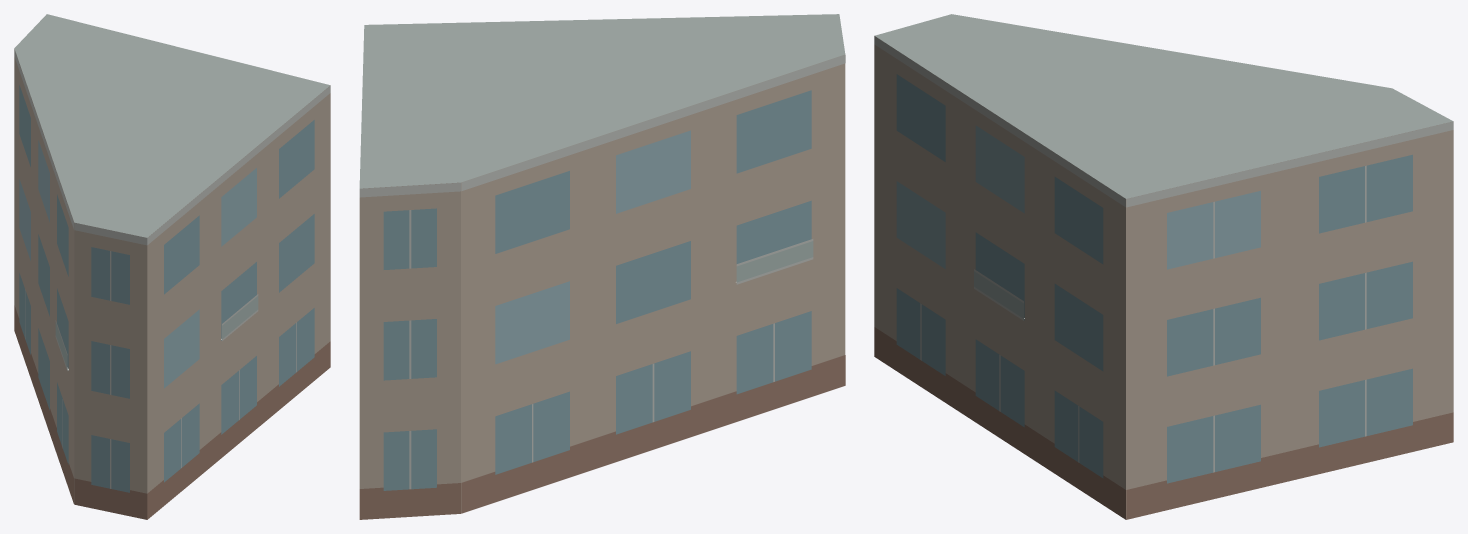
File: survey-upis-32998322.glb
3 renders of one model, left to right at view 1: azimuth 30°, elevation 25°; view 2: azimuth 150°, elevation 25°; view 3: azimuth 270°, elevation 25°, orthographic. The views are drawn at different scales.
Parts seen in each view (by area): view 1: survey-upis-32998322.tmp; view 2: survey-upis-32998322.tmp; view 3: survey-upis-32998322.tmp.
Boxes of the visible parts, x1=… form: survey-upis-32998322.tmp: x1=14, y1=14, x2=330, y2=519; survey-upis-32998322.tmp: x1=359, y1=14, x2=845, y2=519; survey-upis-32998322.tmp: x1=874, y1=14, x2=1453, y2=519.
Size of the model in its own units: 11.26 by 9.1 by 14.89.
